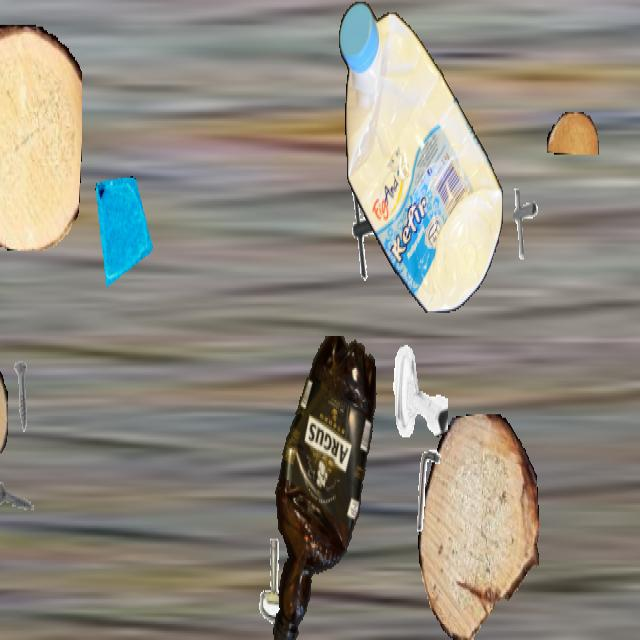glass: (92, 176, 156, 290)
metal: (341, 176, 401, 283), (390, 340, 448, 442), (249, 532, 305, 631), (403, 442, 457, 538), (501, 183, 545, 261), (1, 359, 43, 434), (0, 459, 39, 533)
plastic: (339, 2, 503, 311), (263, 336, 383, 638)
wood: (418, 414, 538, 638), (0, 25, 81, 249), (547, 112, 599, 155), (0, 340, 8, 478)
